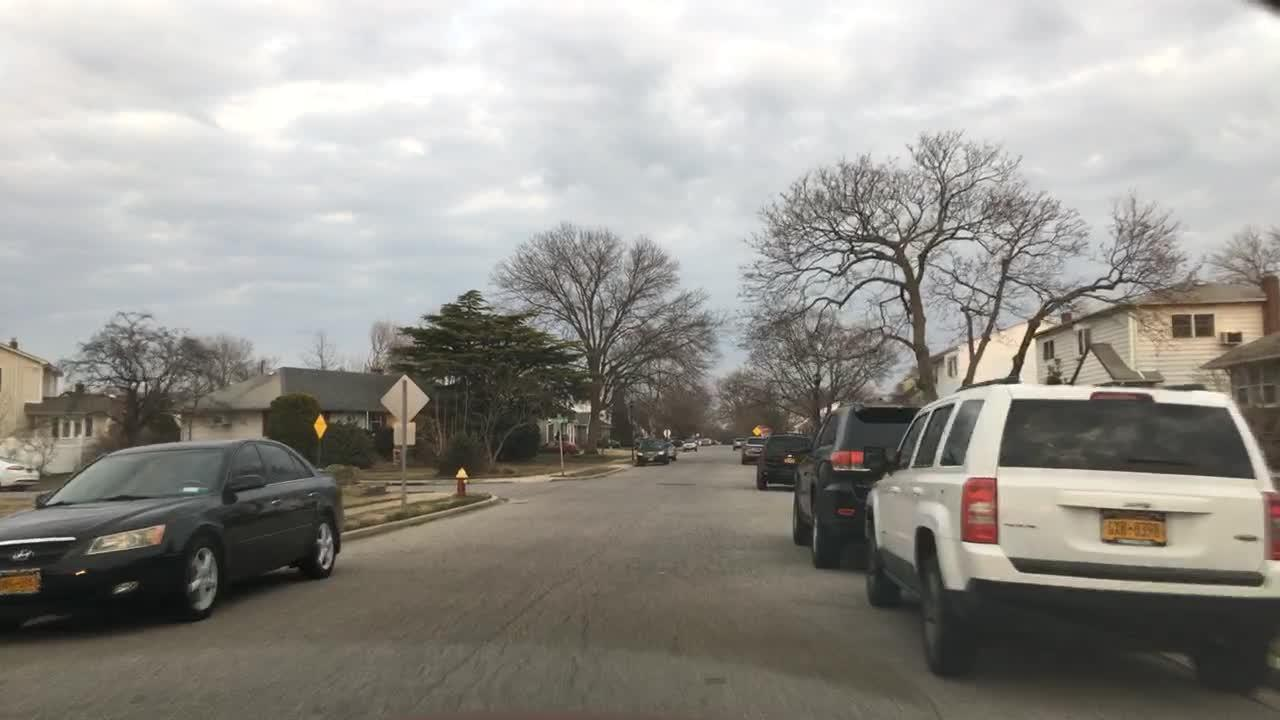Hyundai: (6, 542, 39, 565)
